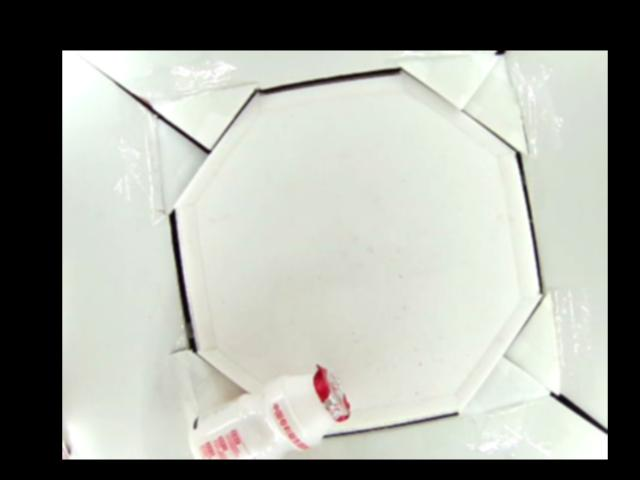Bottle: (187, 364, 350, 459)
